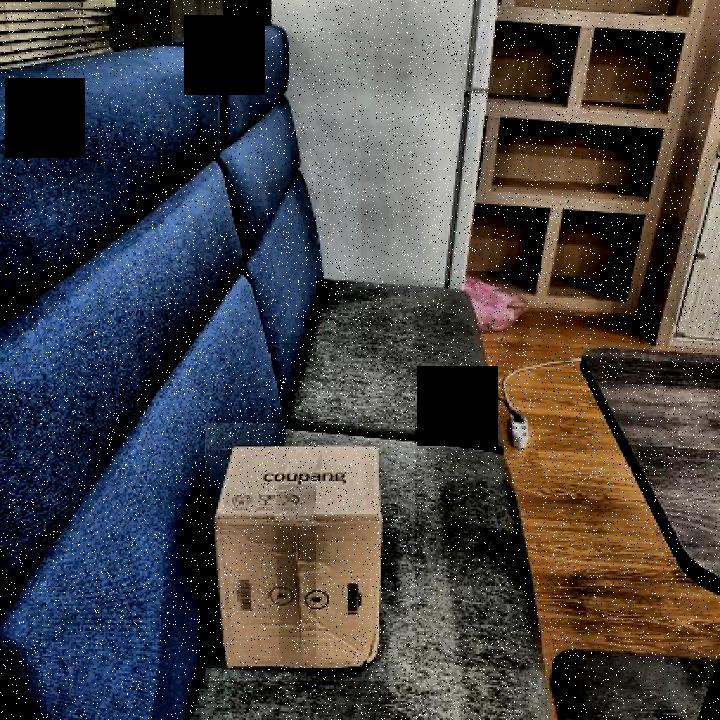box: (205, 423, 415, 681)
